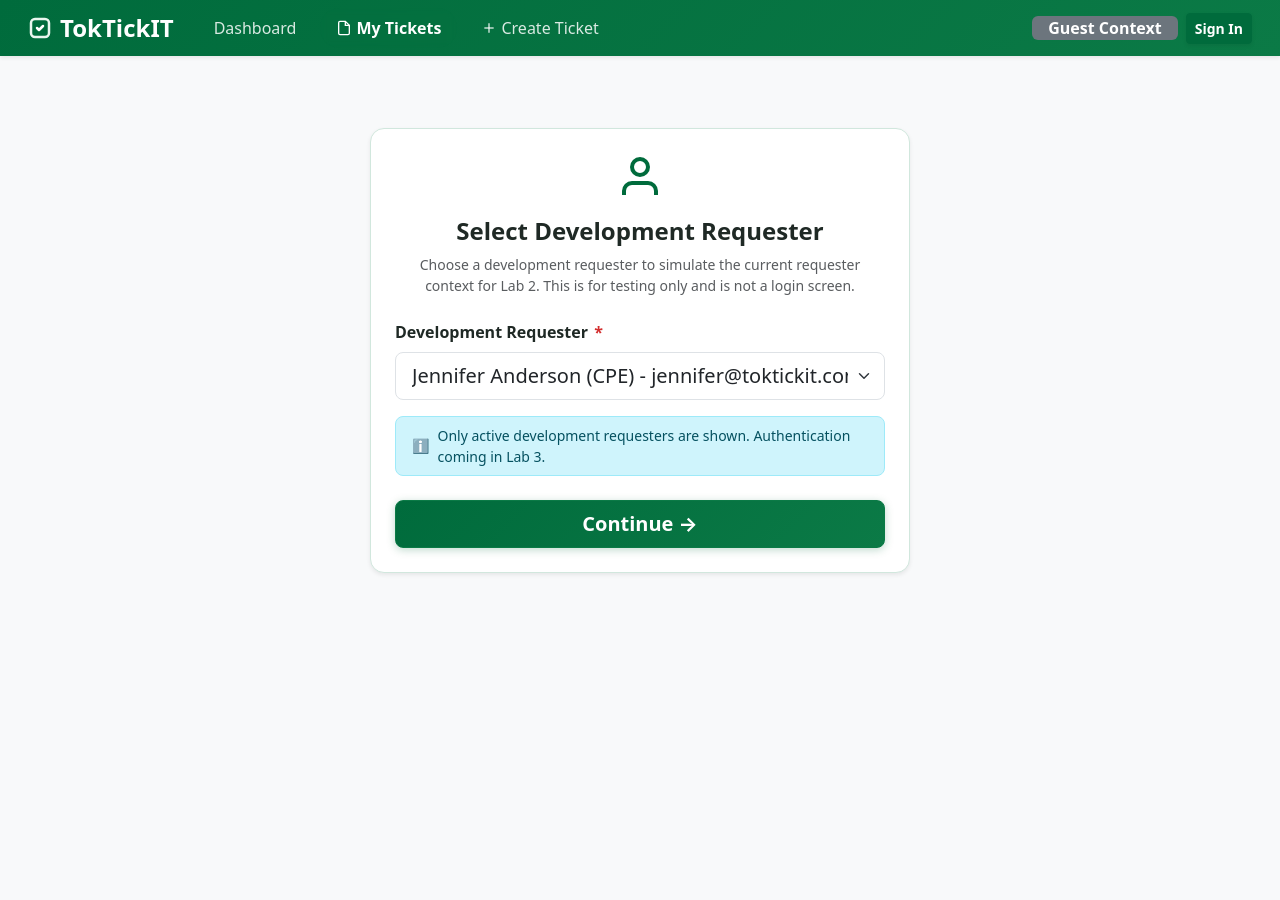
Test: Lab 3 E2E Client Application Integration › should navigate to Login screen when clicking Sign In button
Click the button "Sign In" at (1219, 28), box [1186,12,1252,44]
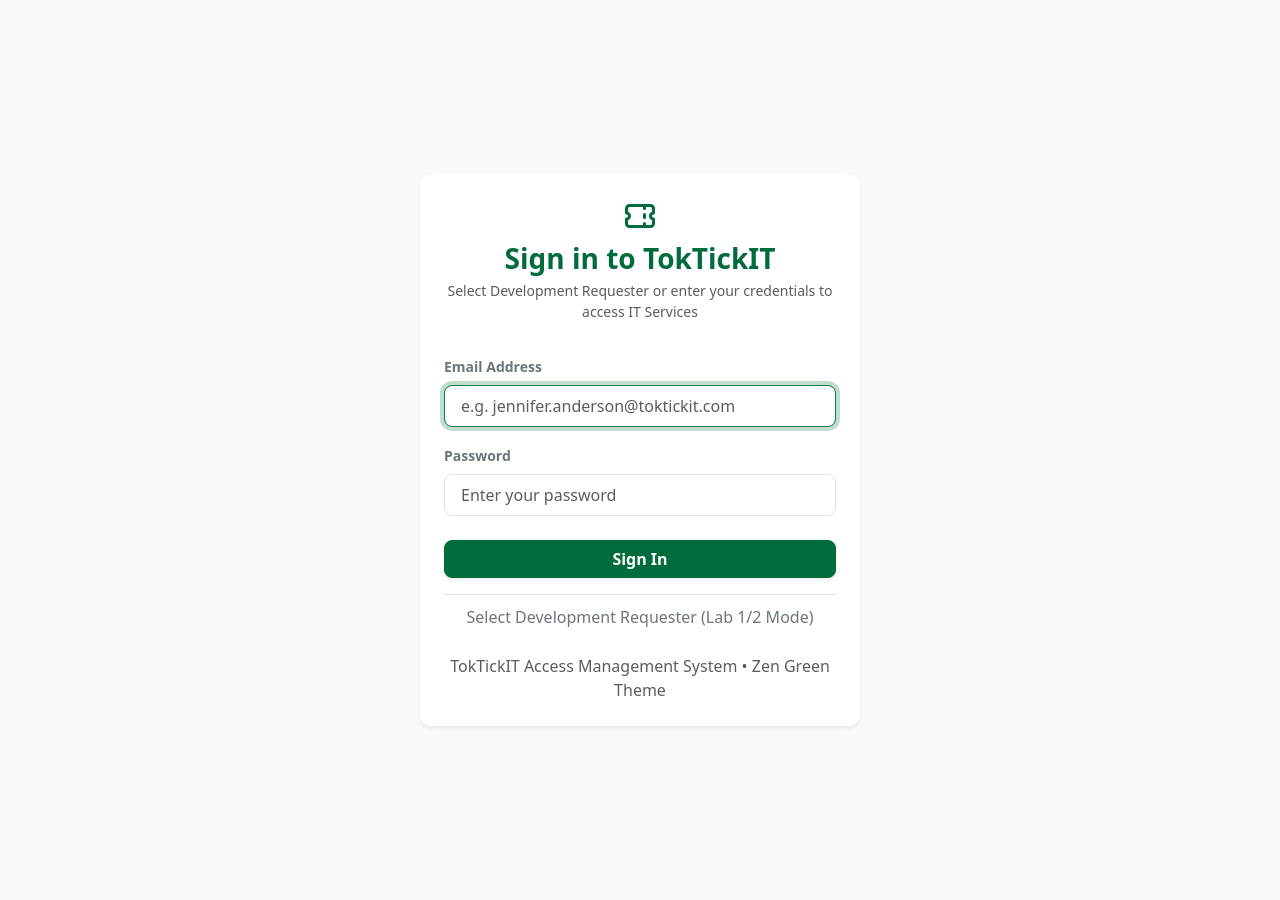
Expected: the heading "Sign in to TokTickIT" is shown, [504,239,775,277]
Expected: the field labelled "Email Address" is shown, [444,385,836,427]
